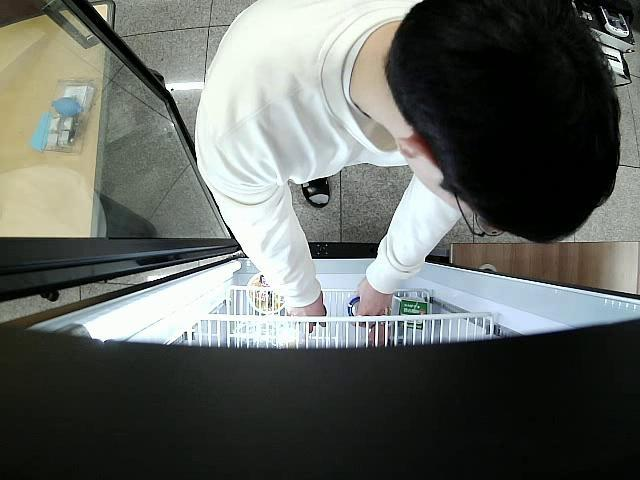13_pocariSweat: (347, 297, 360, 315)
